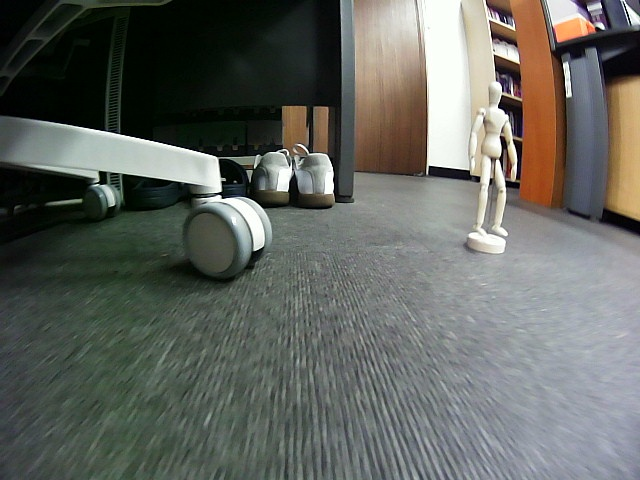person: (468, 80, 518, 238)
